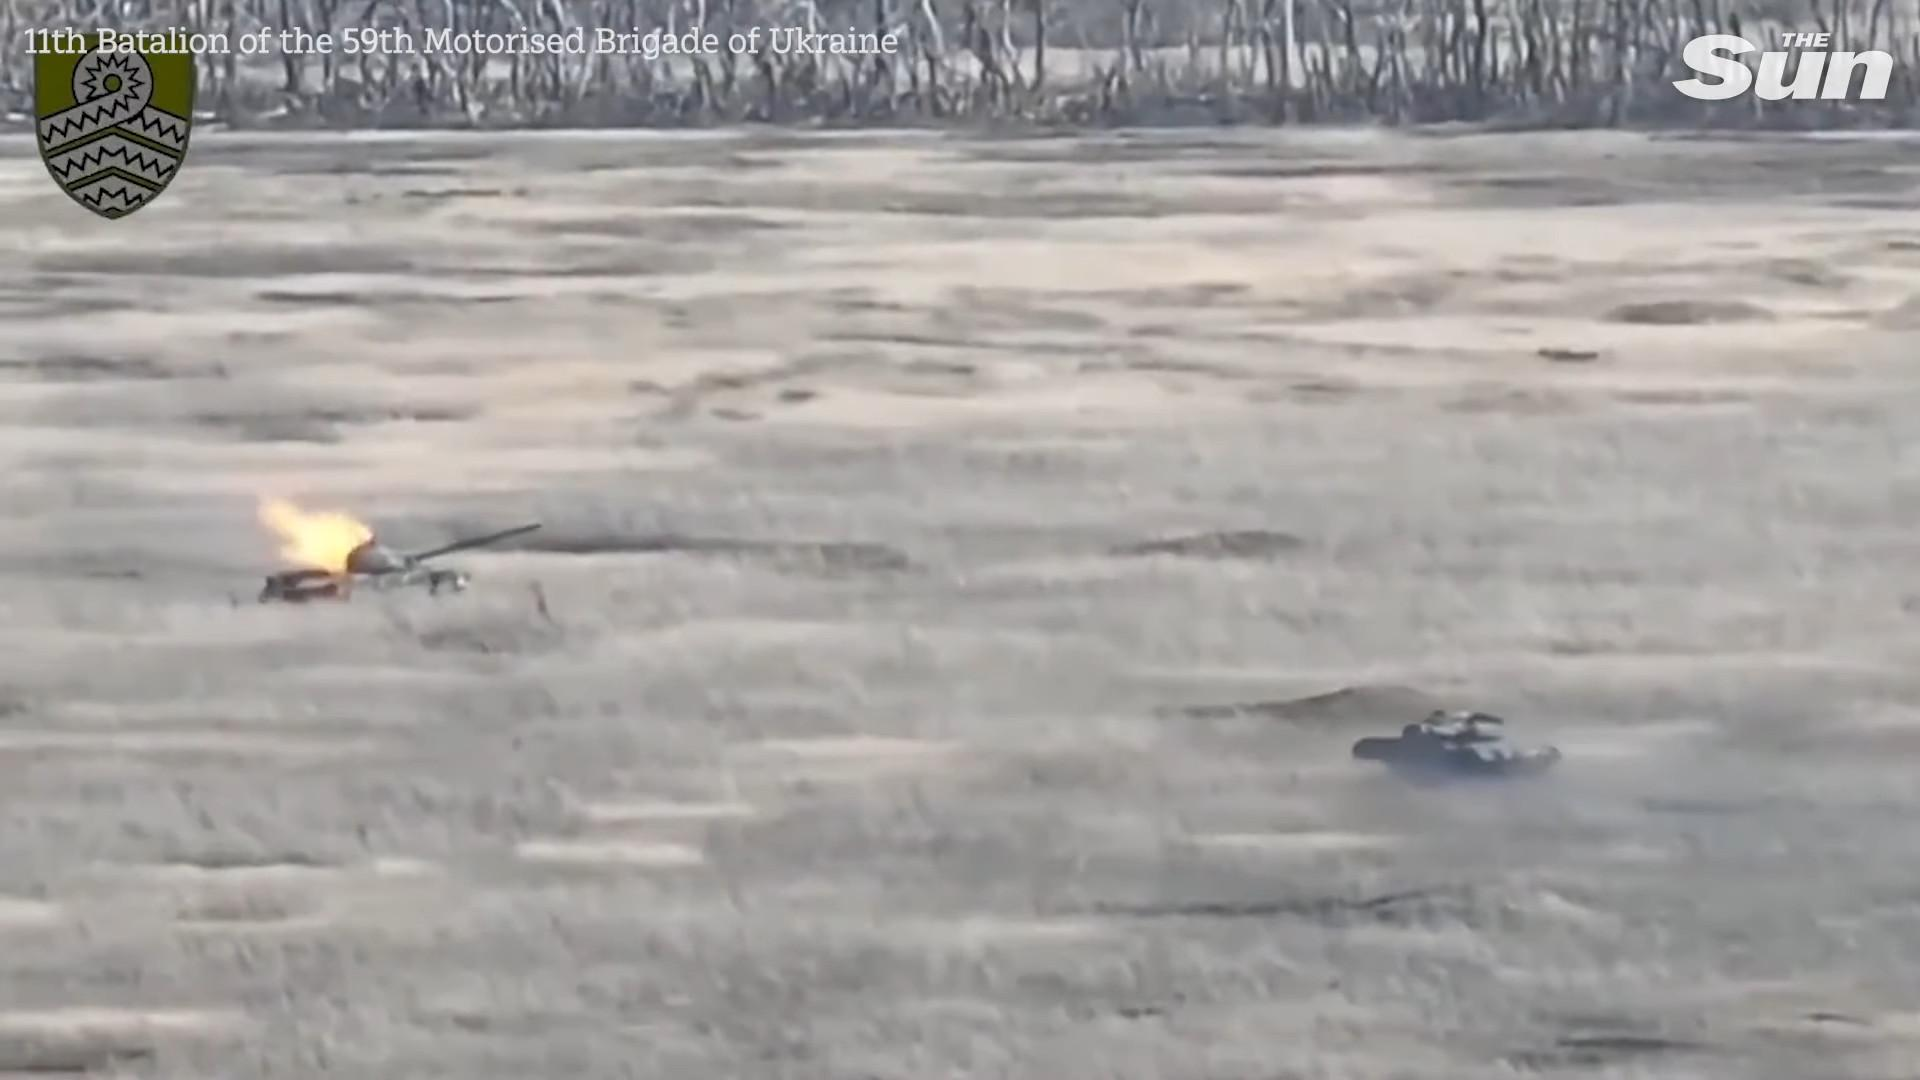tank: (260, 524, 542, 603), (1353, 711, 1559, 785)
